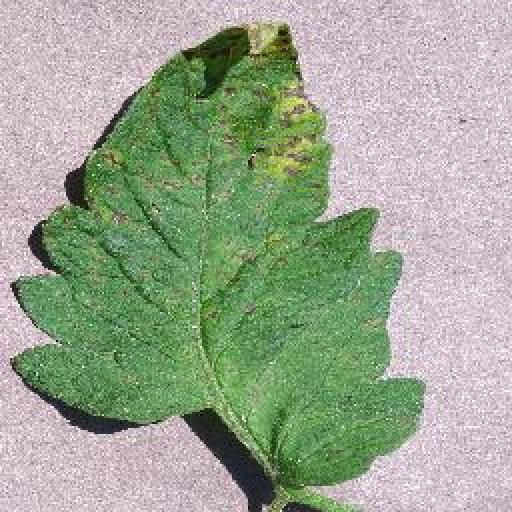disease_tomato: (12, 20, 437, 492)
